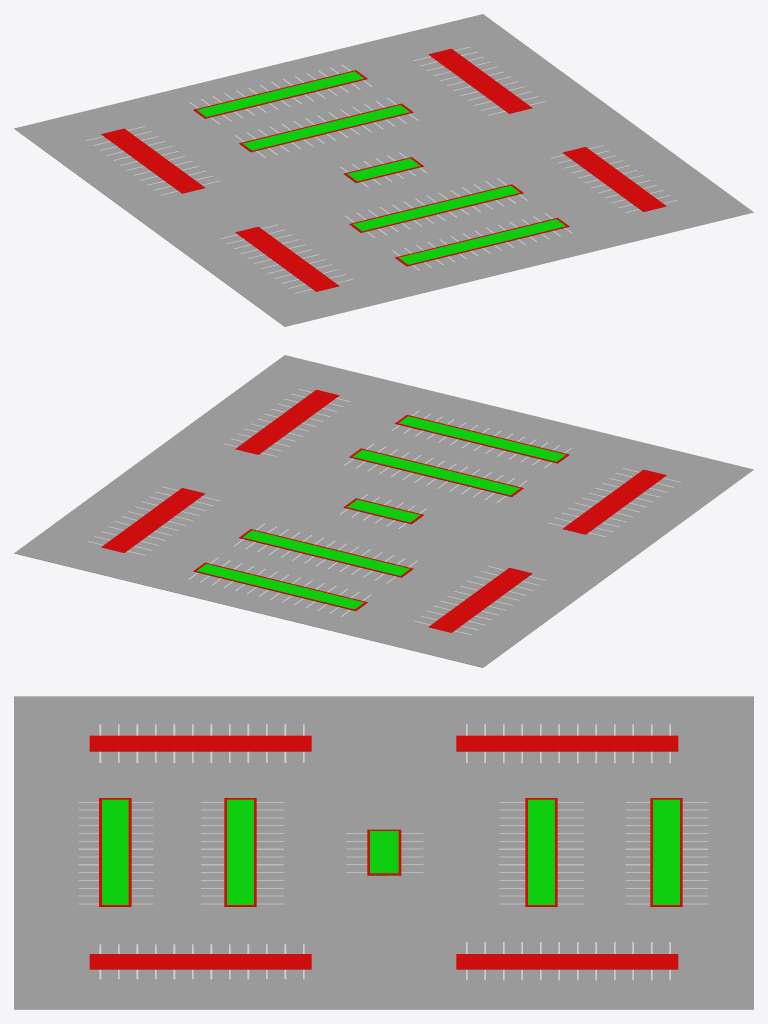
The model's file is mall ground.fbx.
3 views of the same model, one above another, from view 1: azimuth 30°, elevation 25°; view 2: azimuth 150°, elevation 25°; view 3: azimuth 270°, elevation 25° (orthographic). The views are drawn at different scales.
Parts seen in each view (by area): view 1: asphelt, sidewalk_nograss2, sidewalk_nograss1, sidewalk_nograss4, sidewalk_nograss3, grass4, grass2, grass3, grass1, grass, concrete2, concret (+2 smaller); view 2: asphelt, sidewalk_nograss1, sidewalk_nograss3, sidewalk_nograss2, sidewalk_nograss4, grass4, grass2, grass1, grass3, grass, concrete3, concrete2 (+2 smaller); view 3: asphelt, sidewalk_nograss4, sidewalk_nograss3, sidewalk_nograss2, sidewalk_nograss1, grass1, grass2, grass3, grass4, grass, concrete2, concrete1 (+2 smaller).
Boxes of the visible parts, <box> form: asphelt: <box>14,14,753,326</box>; sidewalk_nograss2: <box>562,147,666,211</box>; sidewalk_nograss1: <box>428,48,532,113</box>; sidewalk_nograss4: <box>235,226,339,291</box>; sidewalk_nograss3: <box>101,128,205,193</box>; grass4: <box>242,105,409,150</box>; grass2: <box>399,219,565,264</box>; grass3: <box>197,71,363,116</box>; grass1: <box>353,185,519,231</box>; grass: <box>347,158,420,181</box>; concrete2: <box>395,217,569,266</box>; concret: <box>193,70,367,118</box>; asphelt: <box>14,355,753,667</box>; sidewalk_nograss1: <box>101,488,205,552</box>; sidewalk_nograss3: <box>428,567,532,632</box>; sidewalk_nograss2: <box>235,389,339,454</box>; sidewalk_nograss4: <box>562,469,666,534</box>; grass4: <box>243,530,409,575</box>; grass2: <box>399,416,565,461</box>; grass1: <box>353,449,519,495</box>; grass3: <box>197,564,363,609</box>; grass: <box>347,499,420,522</box>; concrete3: <box>239,529,413,577</box>; concrete2: <box>395,415,569,463</box>; asphelt: <box>14,696,753,1009</box>; sidewalk_nograss4: <box>89,735,311,751</box>; sidewalk_nograss3: <box>456,735,678,751</box>; sidewalk_nograss2: <box>89,954,311,969</box>; sidewalk_nograss1: <box>456,954,678,969</box>; grass1: <box>227,799,253,904</box>; grass2: <box>102,799,128,904</box>; grass3: <box>653,799,679,904</box>; grass4: <box>528,799,554,904</box>; grass: <box>370,831,398,875</box>; concrete2: <box>99,798,131,906</box>; concrete1: <box>224,798,256,906</box>.
Size of the model in its own units: 20000 by 47.24 by 20000.
